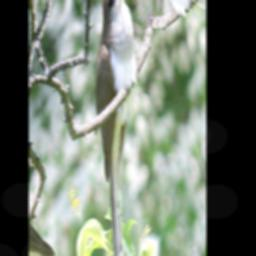Cuckoo: (41, 0, 196, 256)
